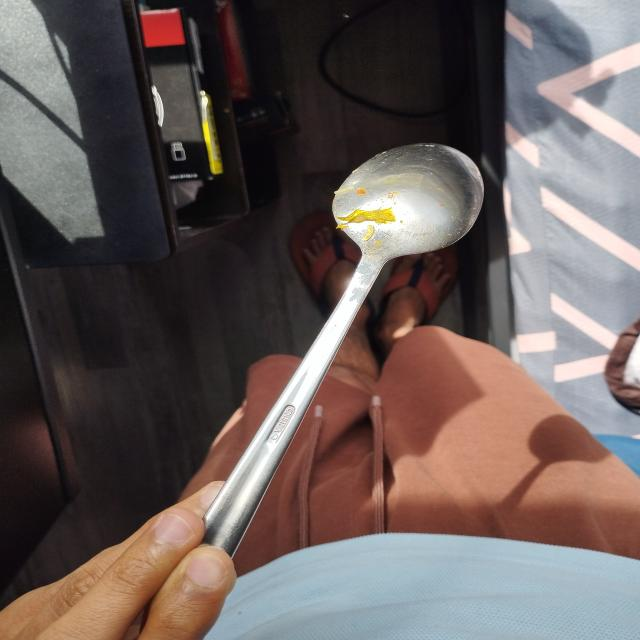Spoon: (138, 135, 496, 586)
